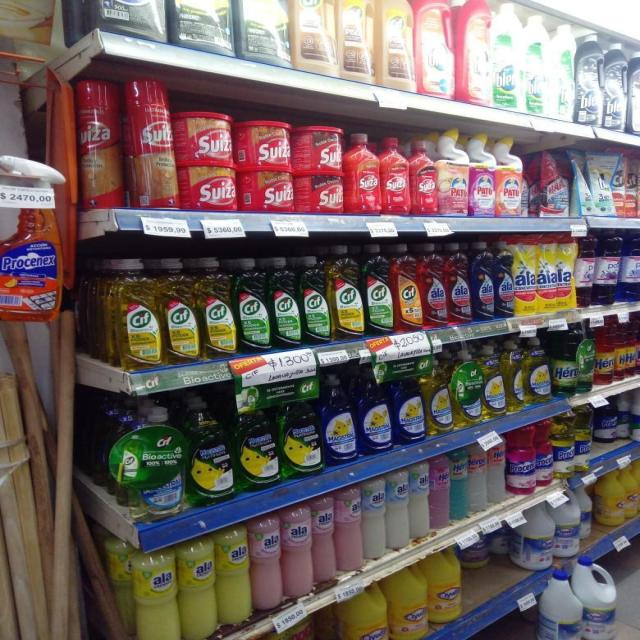ala_conc_azul: (472, 242, 494, 322), (494, 240, 514, 318)
ala_conc_rojo: (420, 242, 446, 327), (446, 242, 471, 325)
ala_crem_amarillo: (133, 548, 177, 640), (178, 537, 216, 640), (217, 525, 250, 626)
ala_crem_blanco: (363, 478, 386, 561), (386, 468, 409, 551), (410, 461, 429, 541)
ala_crem_rosado: (251, 514, 282, 613), (282, 504, 313, 599), (335, 486, 362, 572), (312, 496, 336, 587)
ala_sachet_amarillo: (514, 235, 536, 315), (537, 233, 557, 313), (557, 234, 576, 311)
cif_conc_bot_amarilla: (109, 257, 160, 369), (161, 259, 198, 363), (198, 258, 234, 359), (330, 245, 363, 340)
cif_conc_botella_roja: (393, 243, 420, 332)
cif_conc_botella_verde: (235, 256, 269, 352), (270, 256, 299, 349), (300, 254, 329, 345), (364, 244, 392, 336)
heroe: (430, 453, 450, 532), (468, 441, 487, 515), (450, 446, 467, 523), (488, 435, 506, 505)
magistral_con_amarillo: (454, 349, 482, 426), (425, 359, 452, 435), (525, 334, 551, 404), (482, 343, 504, 417), (506, 339, 524, 412)
magistral_con_azul: (322, 372, 357, 466), (358, 366, 391, 456), (393, 374, 424, 444)
